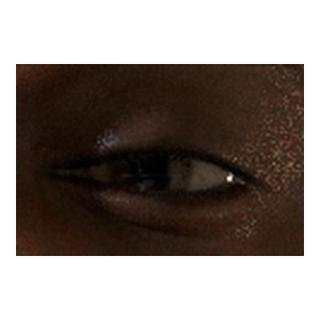pupil: (132, 149, 170, 187)
